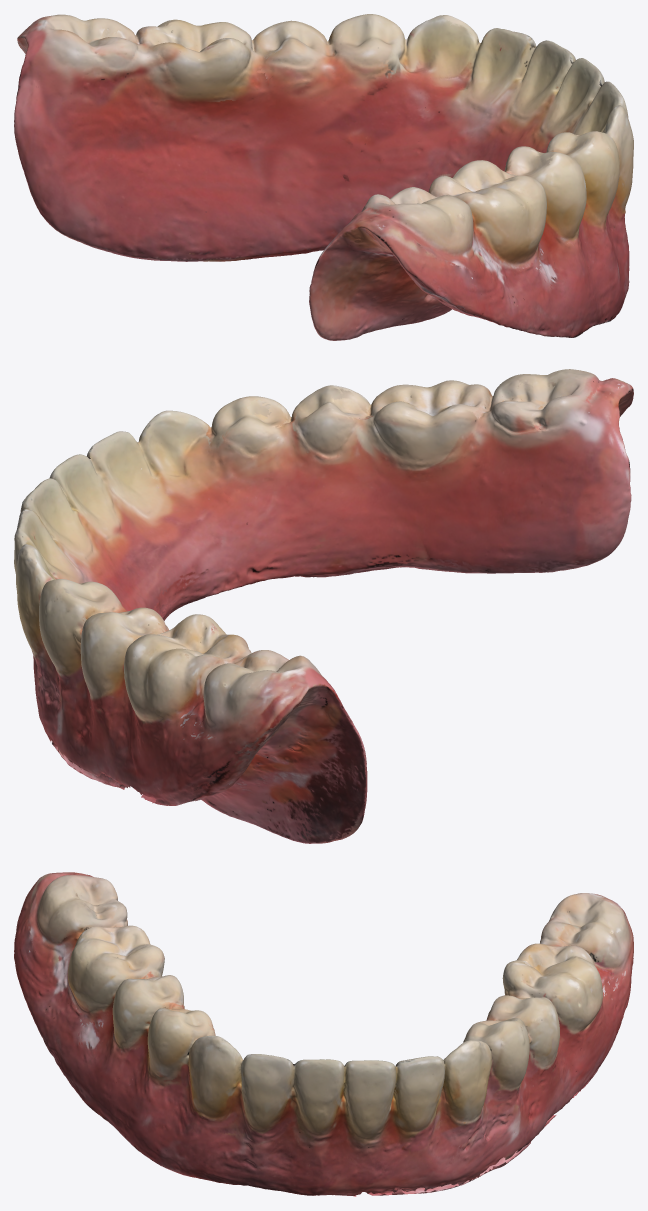
Rendered from frs.glb.
3 renders of one model, top to bottom at view 1: azimuth 30°, elevation 25°; view 2: azimuth 150°, elevation 25°; view 3: azimuth 270°, elevation 25°, orthographic. The views are drawn at different scales.
Parts seen in each view (by area): view 1: frs lucitone LowerJawScan; view 2: frs lucitone LowerJawScan; view 3: frs lucitone LowerJawScan.
Part boxes in pixels (x1,y1,x2,y2): frs lucitone LowerJawScan: (14, 14, 633, 340); frs lucitone LowerJawScan: (14, 369, 633, 843); frs lucitone LowerJawScan: (14, 872, 633, 1196).
Bounding box in the file's own units: 4.56 × 2.57 × 6.74.
Materials: 1 (1 with a texture image).
